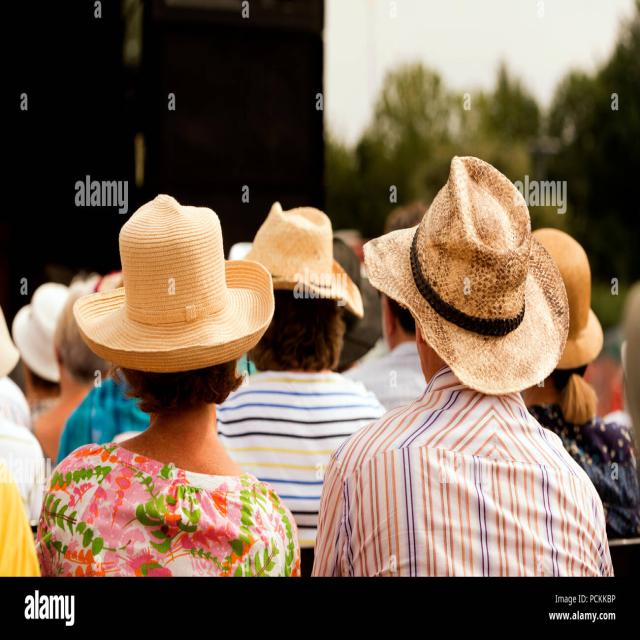hat: (363, 153, 569, 401), (76, 196, 276, 417), (226, 204, 365, 373), (14, 284, 70, 396)
